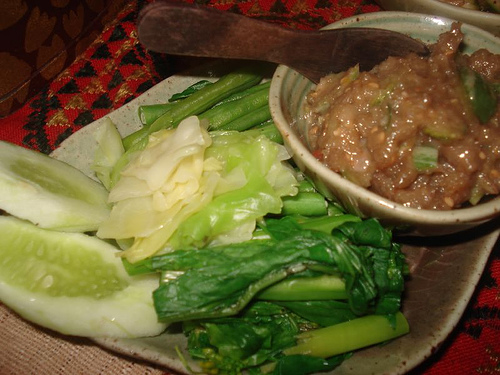cucumber: (0, 211, 184, 342), (0, 141, 110, 235), (411, 146, 439, 173)
